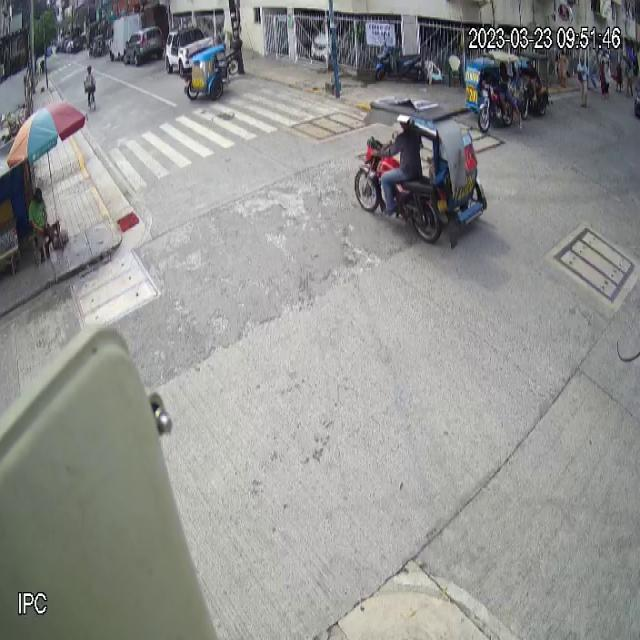Tricycle: (354, 94, 488, 245), (464, 50, 519, 133), (180, 36, 230, 102)
